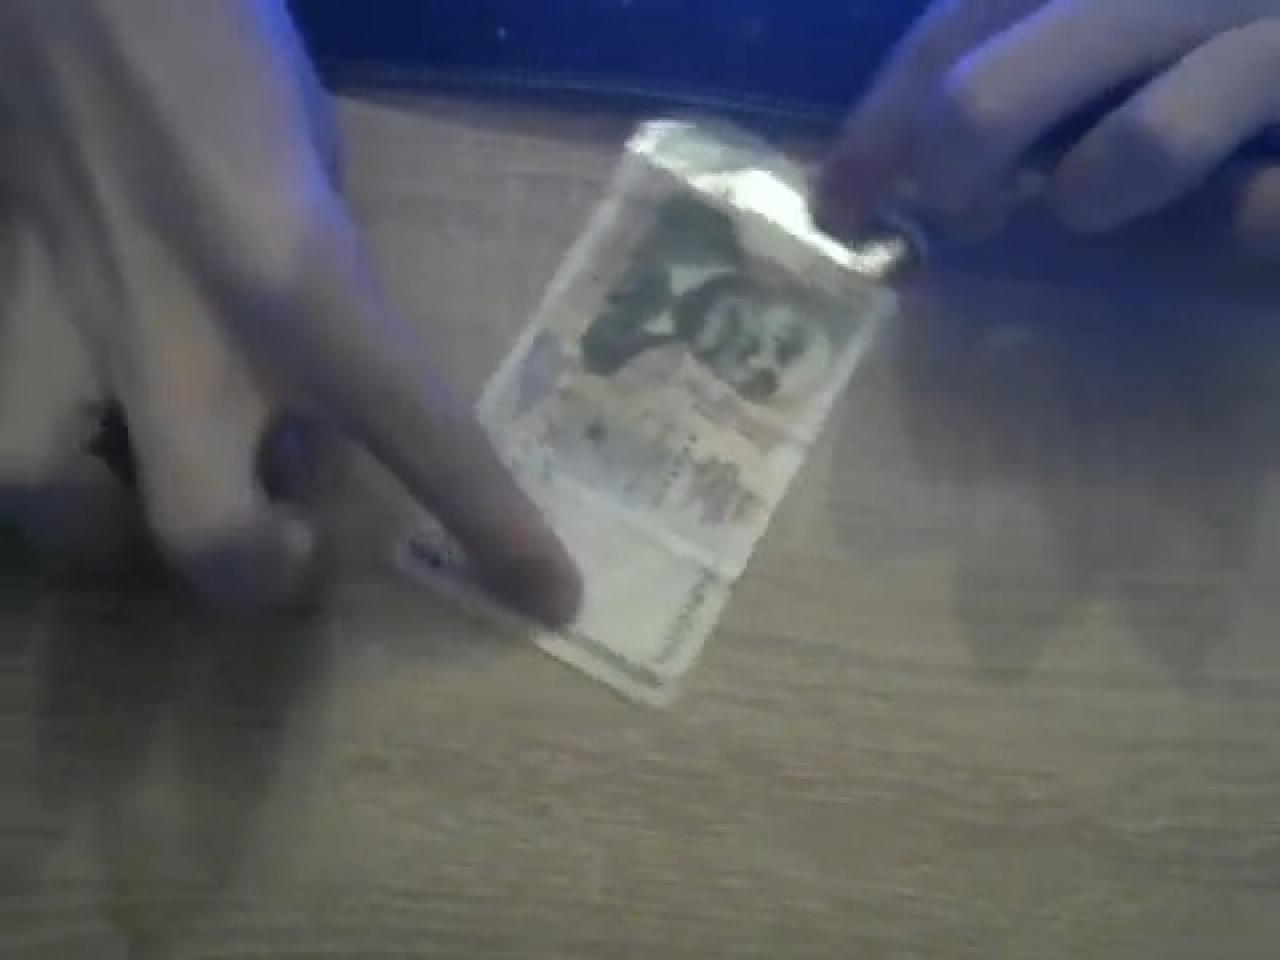10leva: (416, 115, 901, 709)
